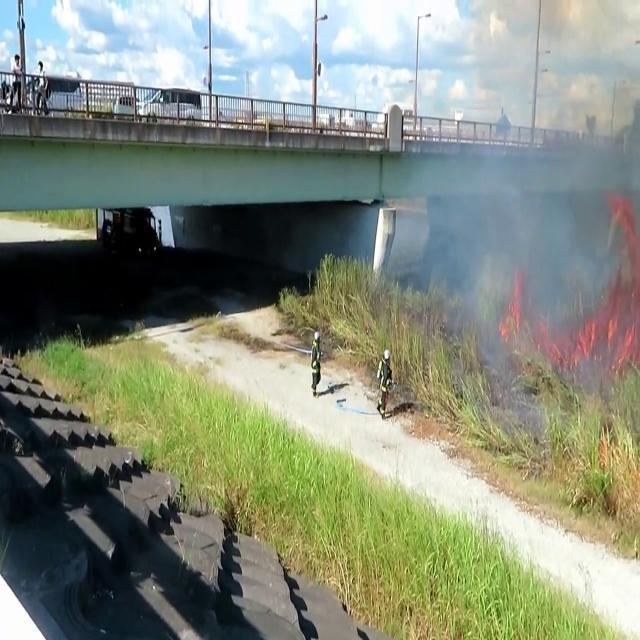Fire: (497, 270, 525, 356)
Smoke: (429, 38, 640, 388)
